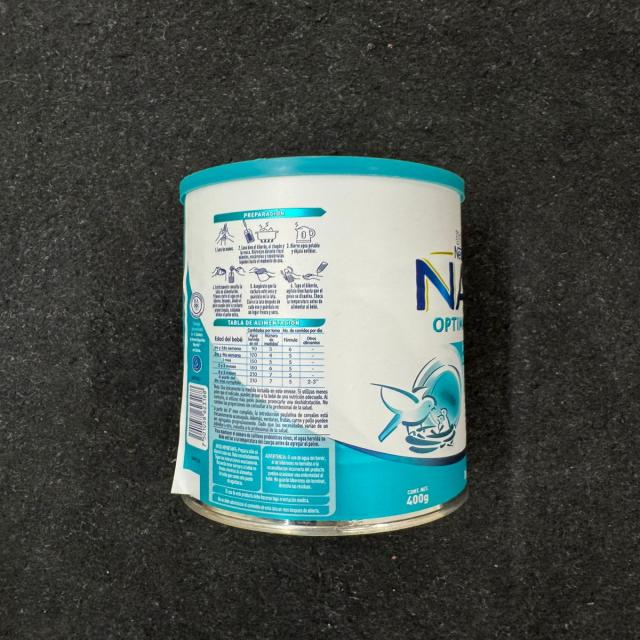NAN 1 OPTIPRO Formula Infantil 12x400gMX: (178, 157, 471, 538)
